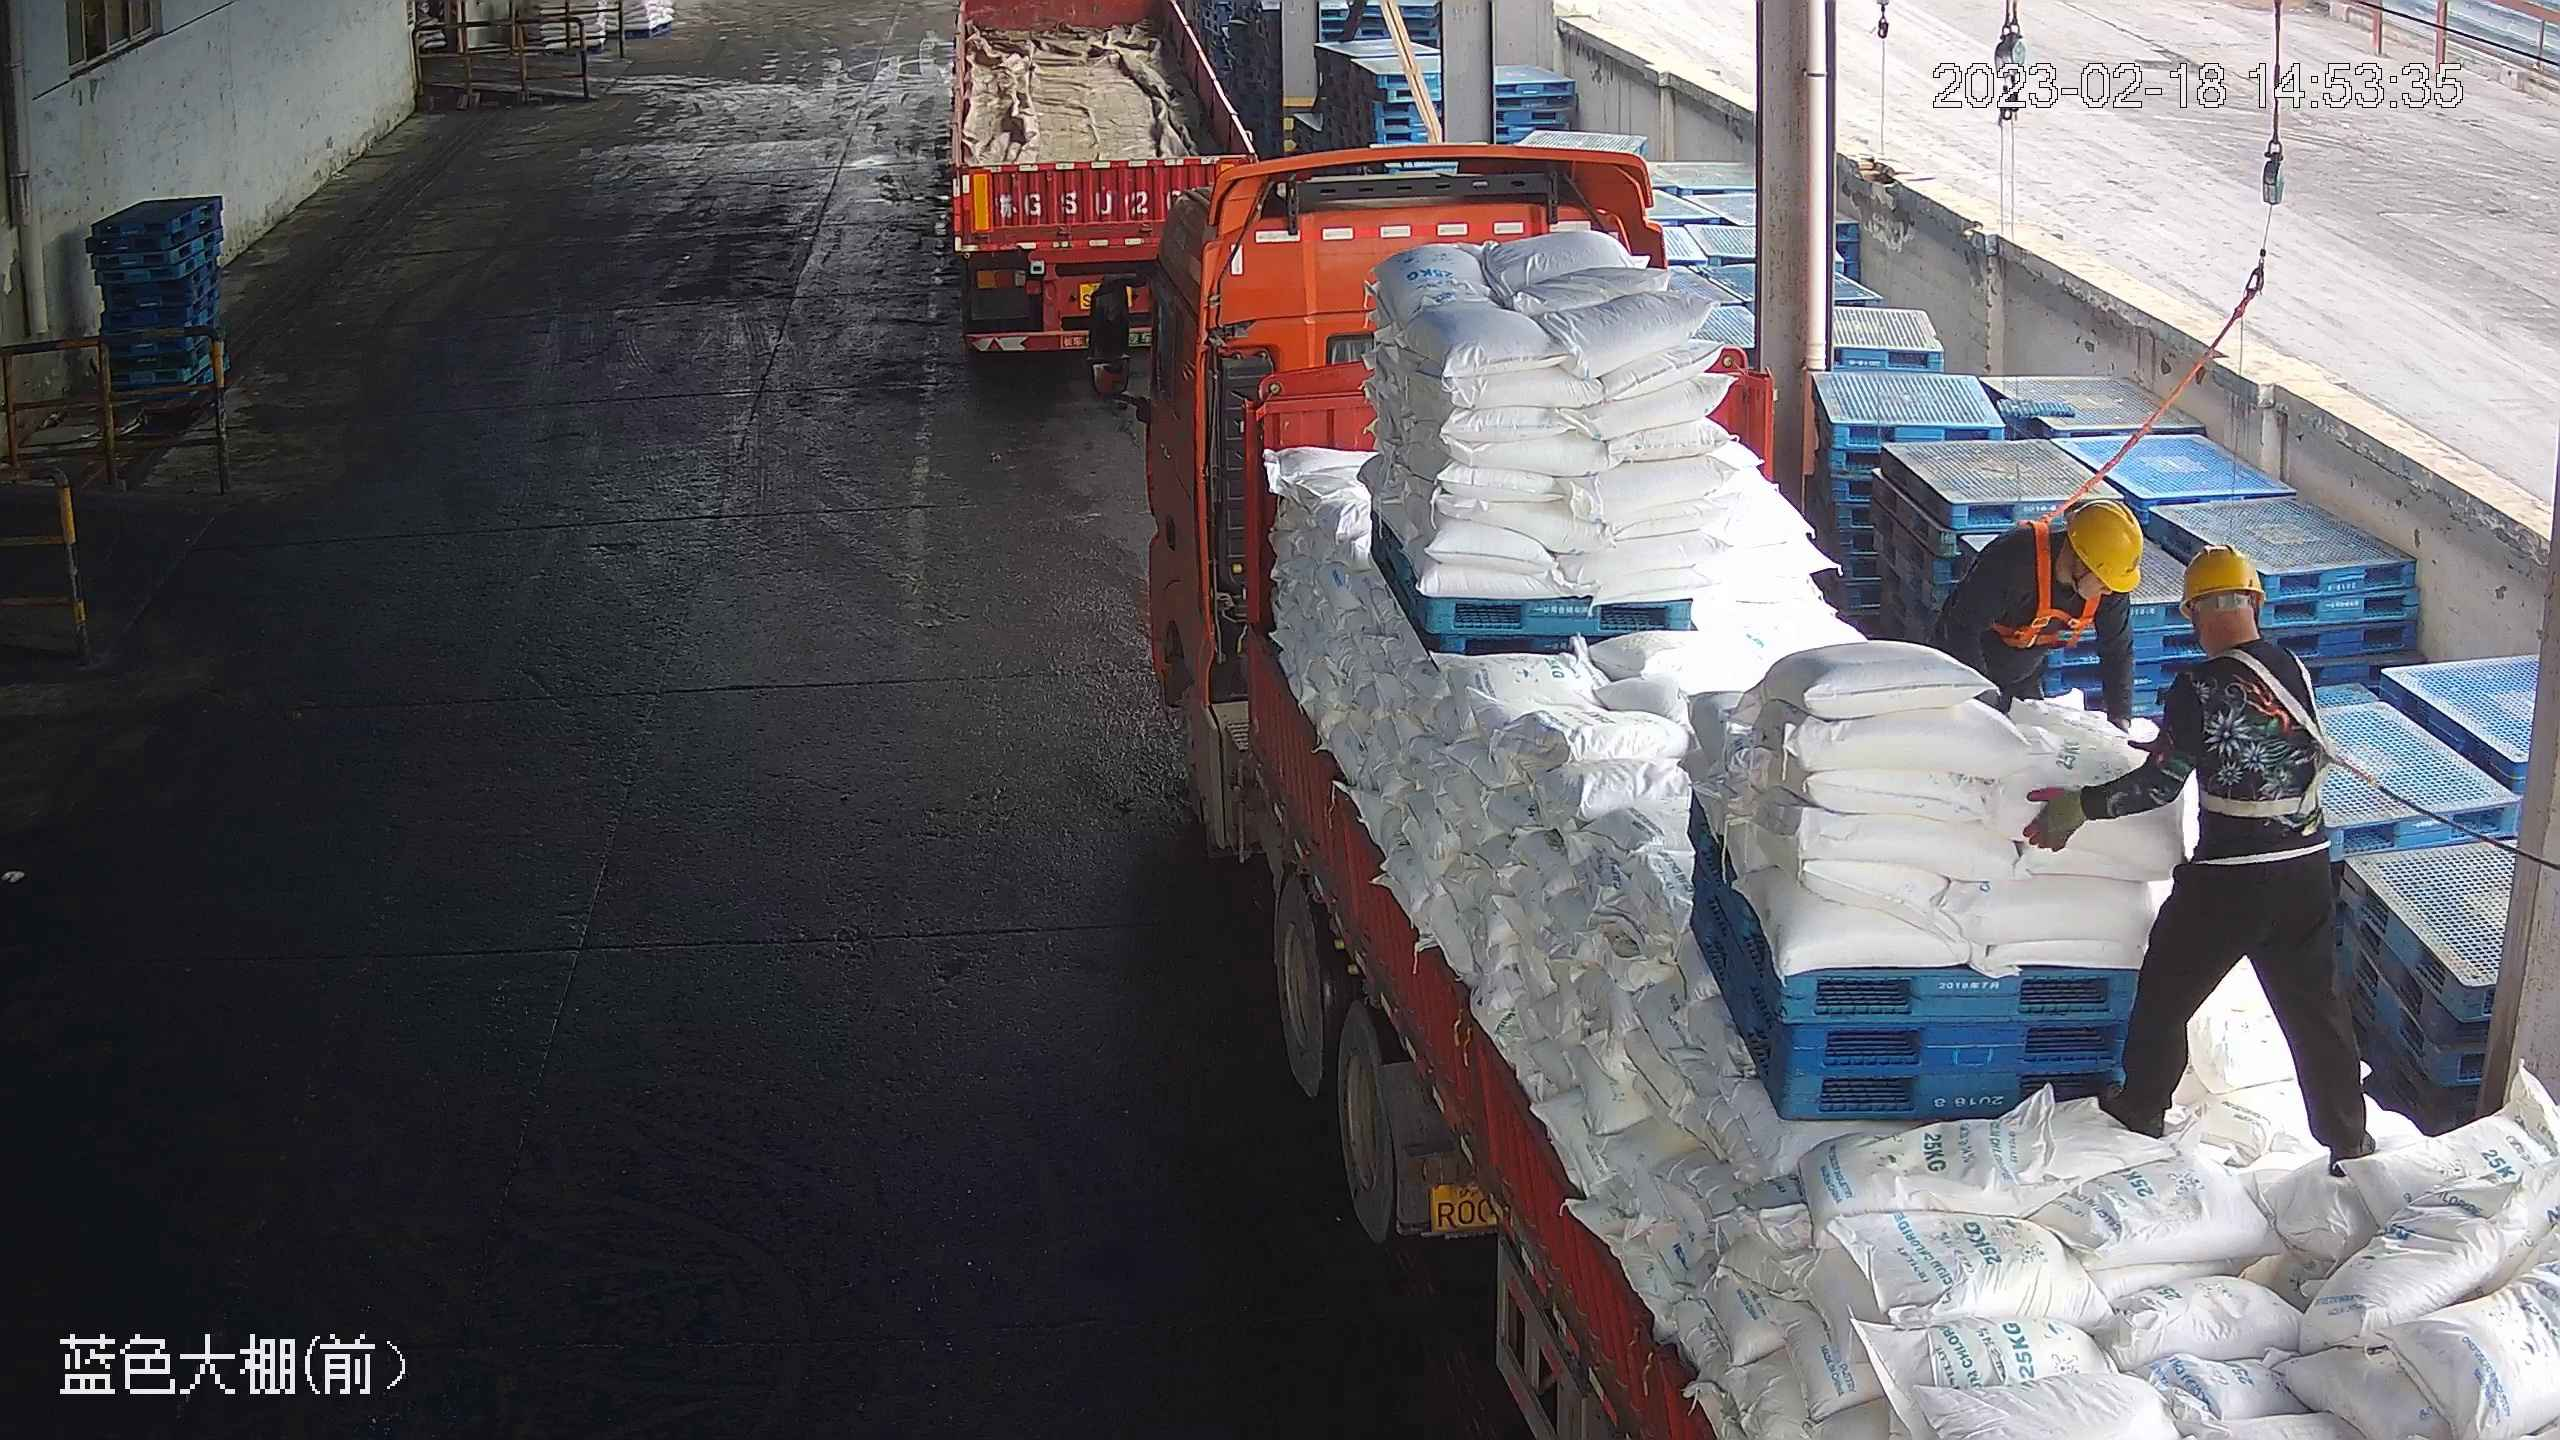belt: (2201, 645, 2338, 828), (1995, 516, 2100, 652)
head: (2151, 538, 2324, 729), (1982, 494, 2146, 626)
helmet: (2065, 500, 2145, 592), (2175, 540, 2264, 606)
people: (2017, 541, 2380, 1173), (1930, 494, 2150, 740)
truck: (1124, 152, 2560, 1435), (923, 1, 1266, 348)
